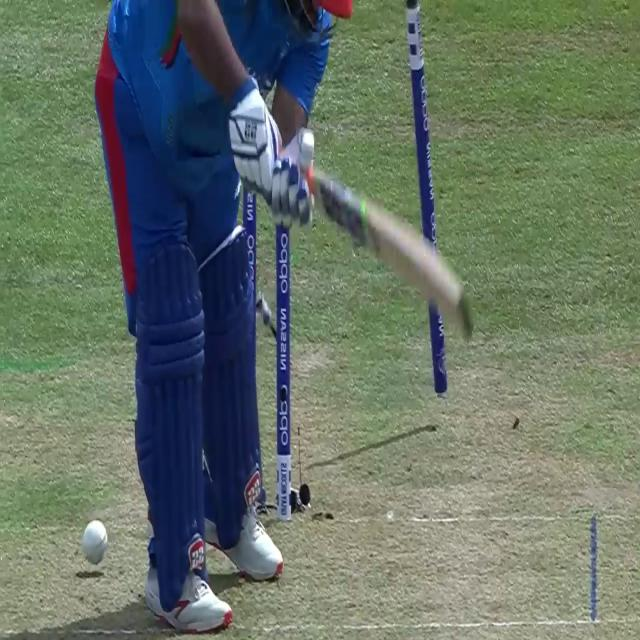ball: (82, 516, 108, 567)
